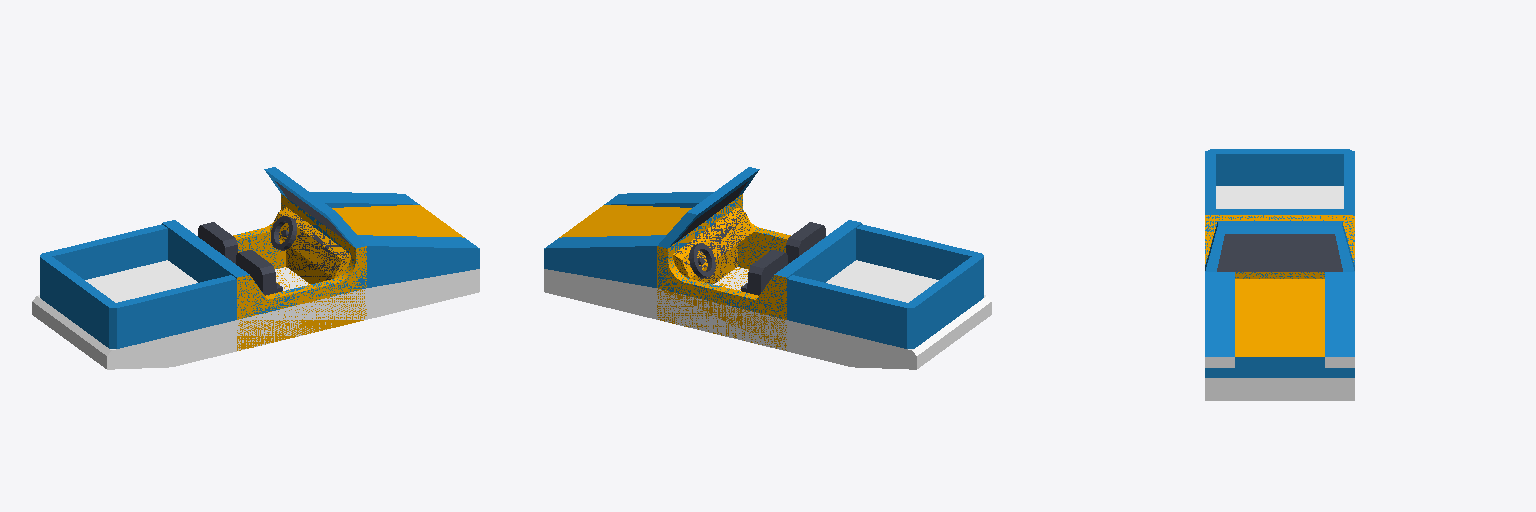
Rendered from car2.obj.
3 renders of one model, left to right at view 1: azimuth 30°, elevation 25°; view 2: azimuth 150°, elevation 25°; view 3: azimuth 270°, elevation 25°, orthographic.
Parts seen in each view (by area): view 1: trunk_bed_15, windshield_jeep_13, hood_sleek_8; view 2: trunk_bed_15, windshield_jeep_13, hood_sleek_8; view 3: hood_sleek_8, windshield_jeep_13, trunk_bed_15.
Boxes of the visible parts, <box> form: trunk_bed_15: <box>32,224,236,369</box>; windshield_jeep_13: <box>162,167,366,350</box>; hood_sleek_8: <box>310,192,479,319</box>; trunk_bed_15: <box>787,224,991,369</box>; windshield_jeep_13: <box>657,167,861,350</box>; hood_sleek_8: <box>544,192,713,319</box>; hood_sleek_8: <box>1205,272,1354,400</box>; windshield_jeep_13: <box>1205,209,1354,278</box>; trunk_bed_15: <box>1205,149,1354,208</box>.
Bounding box in the file's own units: 2.87 × 0.8 × 1.